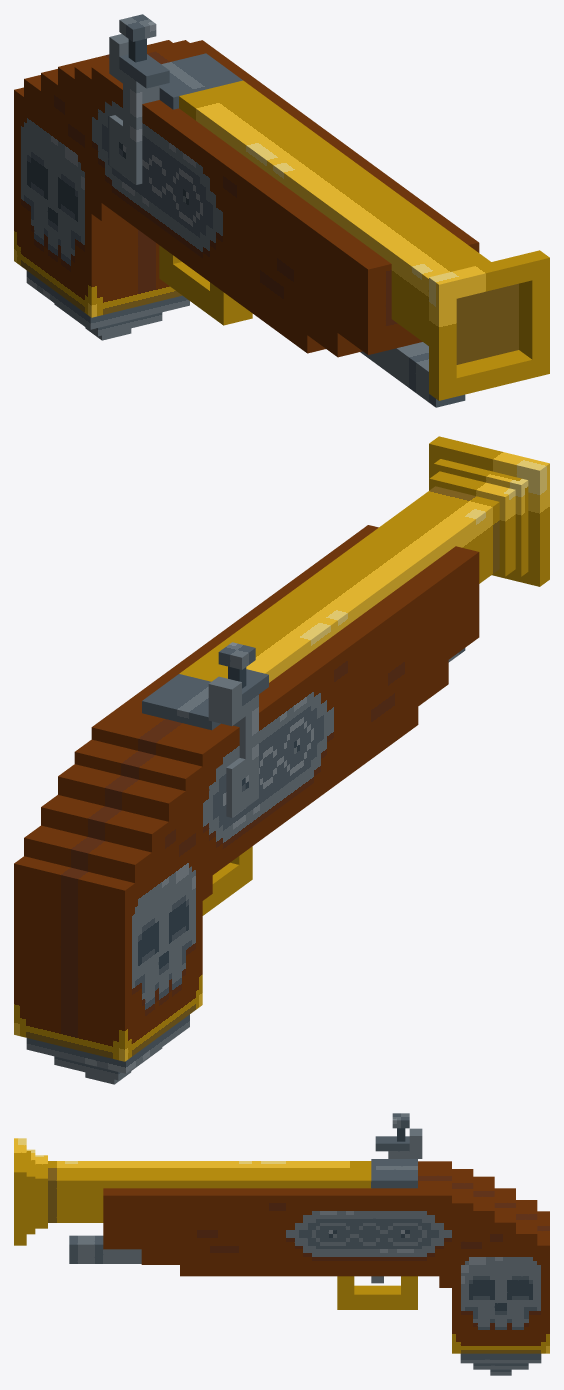
Rendered from item_musket.gltf.
3 renders of one model, top to bottom at view 1: azimuth 30°, elevation 25°; view 2: azimuth 150°, elevation 25°; view 3: azimuth 270°, elevation 25°, orthographic. The views are drawn at different scales.
Parts seen in each view (by area): view 1: pn_chest_gold-Mesh; view 2: pn_chest_gold-Mesh; view 3: pn_chest_gold-Mesh.
Boxes of the visible parts, x1,y1,x2,y2 form: pn_chest_gold-Mesh: (14, 14, 549, 407); pn_chest_gold-Mesh: (14, 436, 549, 1084); pn_chest_gold-Mesh: (14, 1113, 549, 1375).
Bounding box in the file's own units: 20 × 62 × 126.
Materials: 1 (1 with a texture image).
